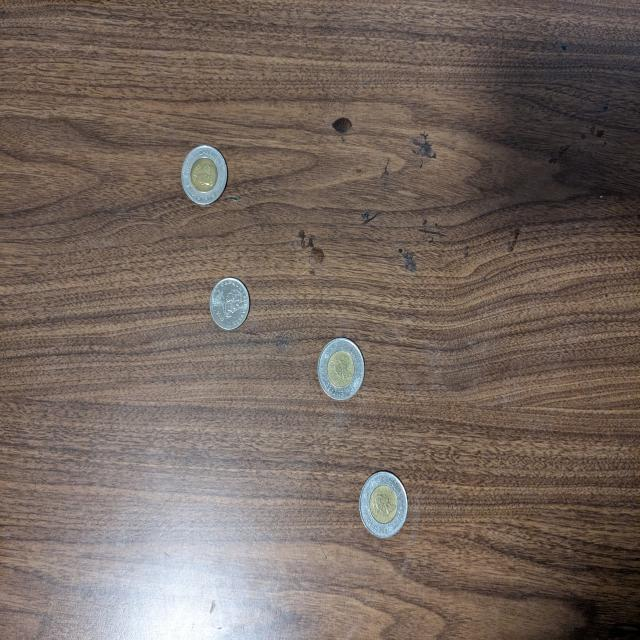quarter: (208, 276, 250, 331)
toonie: (359, 472, 408, 537), (319, 337, 365, 402), (182, 146, 228, 207)
